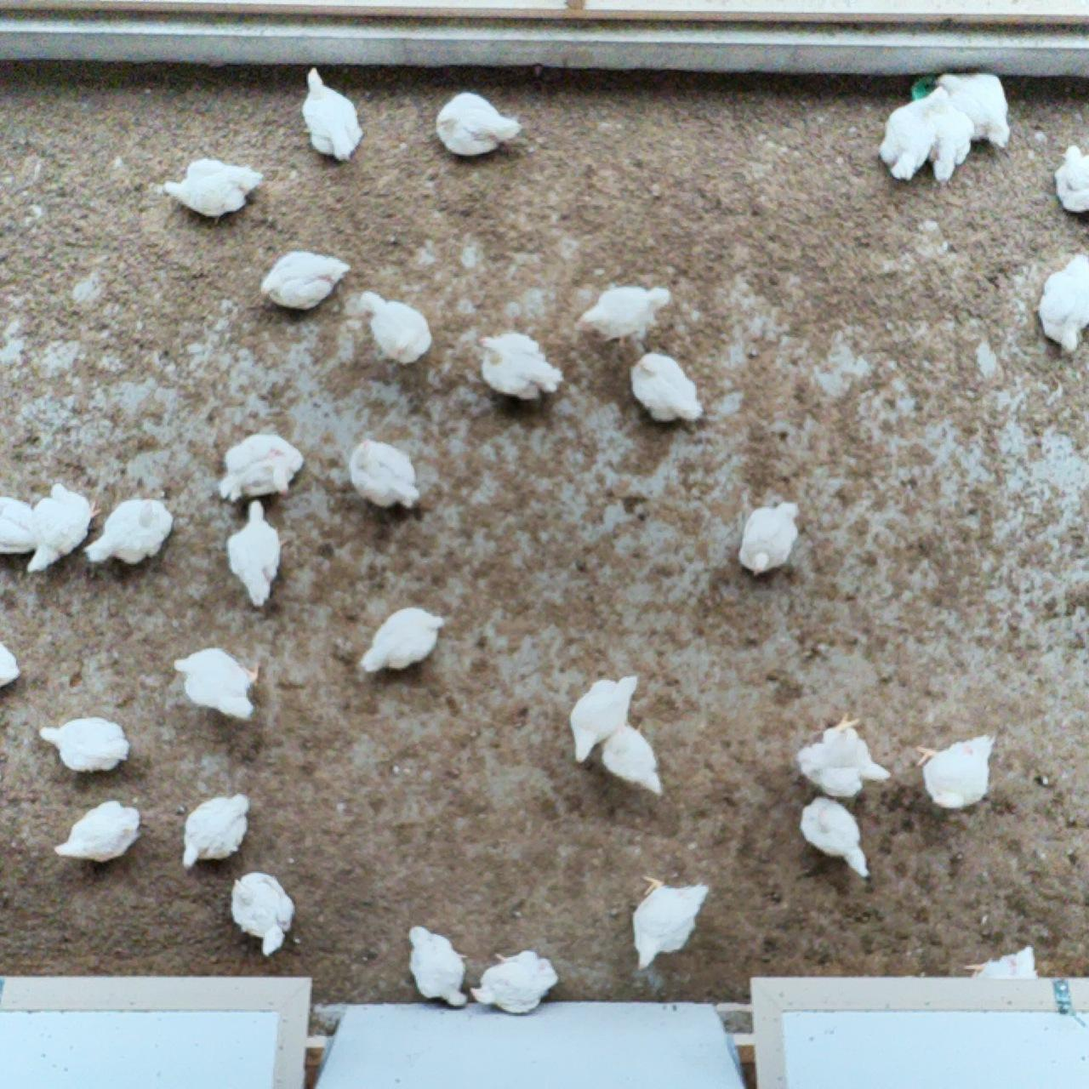chicken: (626, 867, 716, 973), (793, 711, 894, 799), (874, 85, 952, 187), (472, 326, 568, 408), (160, 152, 266, 226), (22, 478, 98, 577), (81, 491, 177, 569), (566, 667, 639, 769), (220, 492, 284, 608), (171, 642, 261, 724), (255, 242, 356, 315), (354, 283, 439, 369), (913, 727, 997, 814), (577, 279, 681, 347), (358, 603, 452, 677), (52, 795, 148, 867), (298, 64, 365, 167), (796, 792, 873, 881), (216, 427, 306, 502), (935, 69, 1016, 151), (434, 89, 525, 161), (227, 866, 300, 955), (470, 945, 561, 1016), (405, 919, 470, 1016), (629, 351, 711, 427), (39, 713, 133, 777), (1034, 247, 1089, 356), (596, 718, 669, 799), (184, 787, 254, 870), (349, 436, 424, 513), (735, 496, 803, 580), (926, 100, 978, 184), (964, 939, 1041, 981), (1048, 140, 1089, 214), (0, 493, 42, 556), (0, 639, 22, 687)
